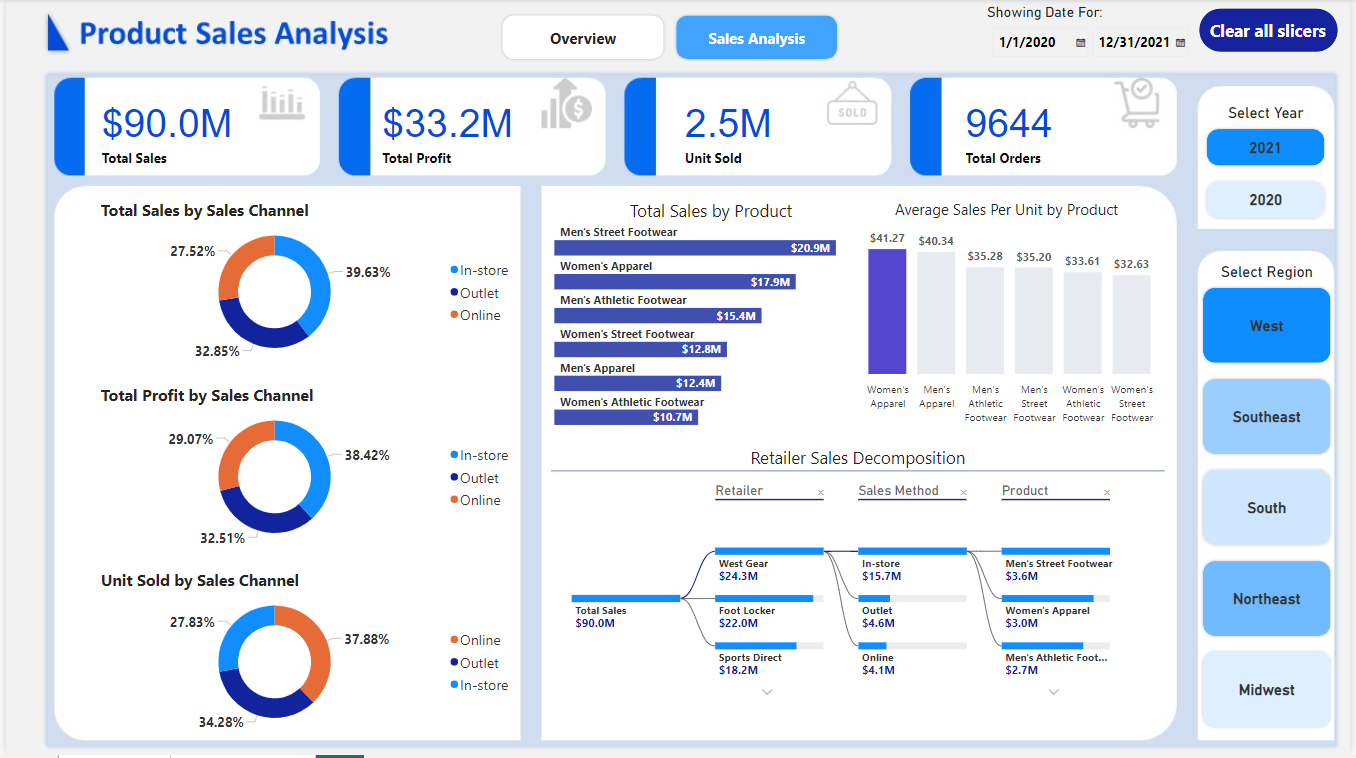

What the dashboard file says about the page in this screenshot:
{"tool":"powerbi","page":{"name":"Sales Analysis","canvas":[1920,1080],"ordinal":1},"visuals":[{"type":"cardVisual","fields":{"Data":["_Measure.Total Sales","_Measure.Total Profit","_Measure.Unit Sold","_Measure.Total Orders"]},"box":[28,128,1608,126],"z":0},{"type":"advancedSlicerVisual","title":"Select Region","fields":{"Values":["dim_Region.Region"]},"box":[1698,376,206,678],"z":4000},{"type":"advancedSlicerVisual","title":"Select Year","fields":{"Values":["dim_Calendar.Year"]},"box":[1704,150,192,176],"z":5000},{"type":"actionButton","box":[1704,12,200,64],"z":6000},{"type":"slicer","title":"Showing Date For: ","fields":{"Values":["dim_Calendar.Date"]},"box":[1396,8,300,82],"z":7000},{"type":"donutChart","title":"Total Sales by Sales Channel","fields":{"Y":["_Measure.Total Sales"],"Category":["dim_Sales_Channel.Sales Method"]},"box":[130,286,602,240],"z":8000},{"type":"donutChart","title":"Total Profit by Sales Channel","fields":{"Y":["_Measure.Total Profit"],"Category":["dim_Sales_Channel.Sales Method"]},"box":[130,550,602,240],"z":9000},{"type":"donutChart","title":"Unit Sold by Sales Channel","fields":{"Y":["_Measure.Unit Sold"],"Category":["dim_Sales_Channel.Sales Method"]},"box":[130,814,602,240],"z":10000},{"type":"clusteredBarChart","title":"Total Sales by Product","fields":{"Y":["_Measure.Label","_Measure.Total Sales"],"Category":["dim_Product.Product"]},"box":[778.6,285.7,457.1,328.6],"z":11000},{"type":"clusteredColumnChart","fields":{"Y":["_Measure.Average Sales Per Unit"],"Category":["dim_Product.Product"]},"box":[1189.3,285.7,480.4,328.6],"z":12000},{"type":"decompositionTreeVisual","title":"Retailer Sales Decomposition","fields":{"Analyze":["_Measure.Total Sales"],"ExplainBy":["dim_Retailer.Retailer","dim_Sales_Channel.Sales Method","dim_Product.Product"]},"box":[778.6,639.3,876.8,396.4],"z":13000},{"type":"pageNavigator","box":[706,20,486,70],"z":14000}]}

Visuals, with their boxes in screenshot pixels (x1, y1, x2, y2), scaled from the page's 1920x1080 canvas onto the 1356x758 screenshot:
cardVisual - _Measure.Total Sales x _Measure.Total Profit: <bbox>20, 90, 1155, 178</bbox>
"Select Region" advancedSlicerVisual: <bbox>1199, 264, 1345, 740</bbox>
"Select Year" advancedSlicerVisual: <bbox>1203, 105, 1339, 229</bbox>
actionButton: <bbox>1203, 8, 1345, 53</bbox>
"Showing Date For: " slicer: <bbox>986, 6, 1198, 63</bbox>
"Total Sales by Sales Channel" donutChart: <bbox>92, 201, 517, 369</bbox>
"Total Profit by Sales Channel" donutChart: <bbox>92, 386, 517, 554</bbox>
"Unit Sold by Sales Channel" donutChart: <bbox>92, 571, 517, 740</bbox>
"Total Sales by Product" clusteredBarChart: <bbox>550, 201, 873, 431</bbox>
clusteredColumnChart - _Measure.Average Sales Per Unit x dim_Product.Product: <bbox>840, 201, 1179, 431</bbox>
"Retailer Sales Decomposition" decompositionTreeVisual: <bbox>550, 449, 1169, 727</bbox>
pageNavigator: <bbox>499, 14, 842, 63</bbox>
